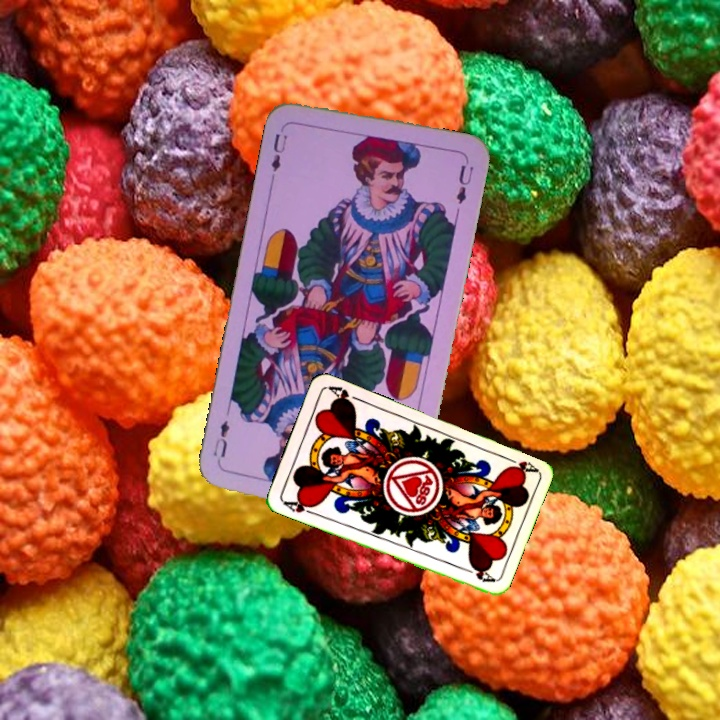EU: (267, 129, 290, 181)
HA: (500, 452, 539, 476), (279, 495, 319, 517)
